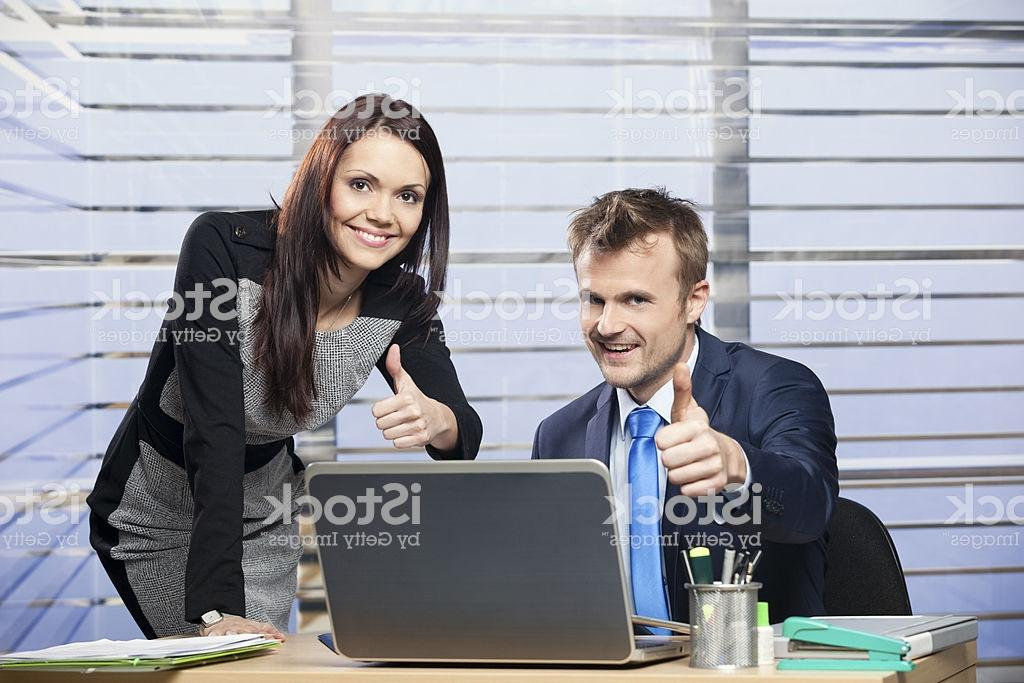thumbsup: (653, 362, 729, 500), (371, 342, 436, 454)
